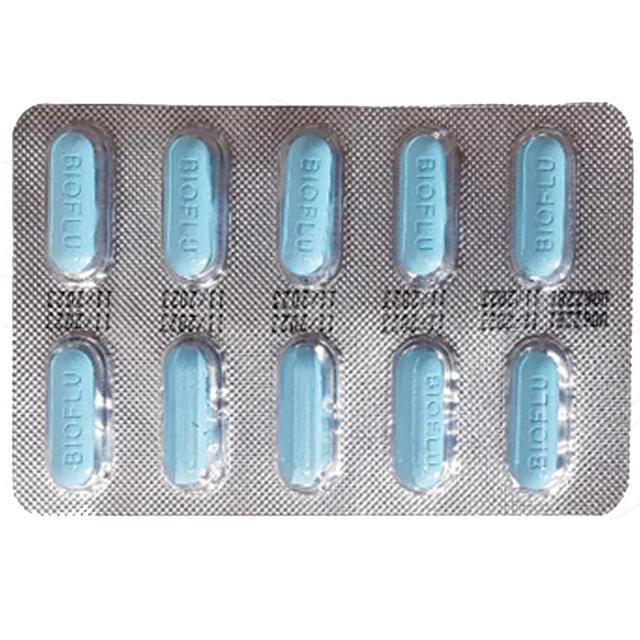blister: (9, 93, 636, 526)
